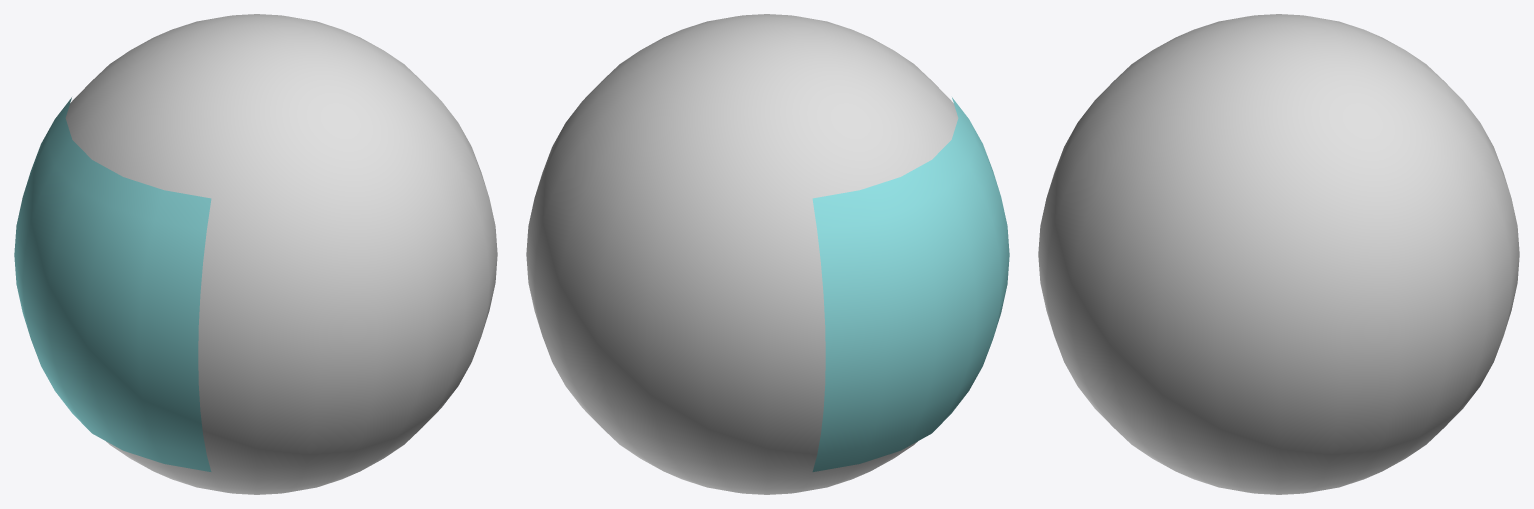
The picture shows the model from 3 angles, left to right: view 1: azimuth 30°, elevation 25°; view 2: azimuth 150°, elevation 25°; view 3: azimuth 270°, elevation 25°; orthographic projection.
Visible parts, largest first — view 1: Sphere; view 2: Sphere; view 3: Sphere.
Part boxes in pixels (<box>): Sphere: <box>14,14,497,494</box>; Sphere: <box>526,14,1009,494</box>; Sphere: <box>1038,14,1519,494</box>.
Size of the model in its own units: 204 by 204 by 204.
